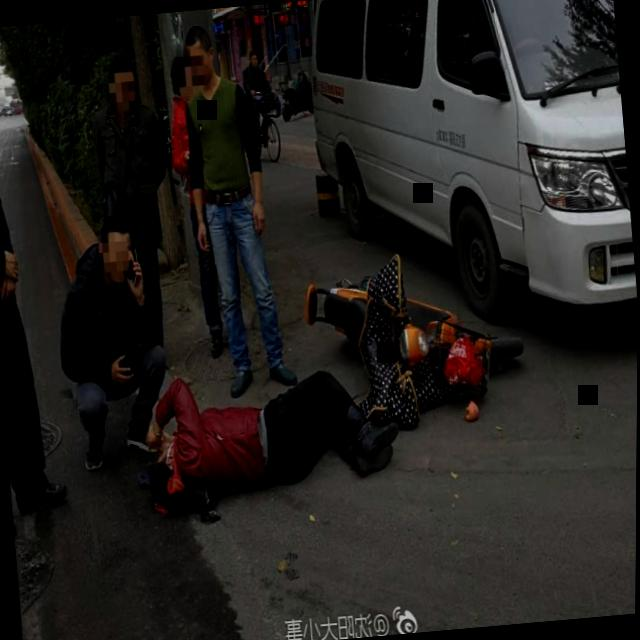Fall-Detected: (127, 345, 410, 517)
